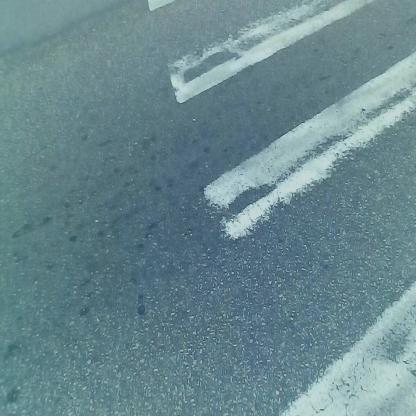crosswalk: (145, 10, 416, 416)
